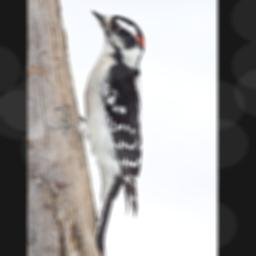Woodpecker: (45, 7, 147, 256)
